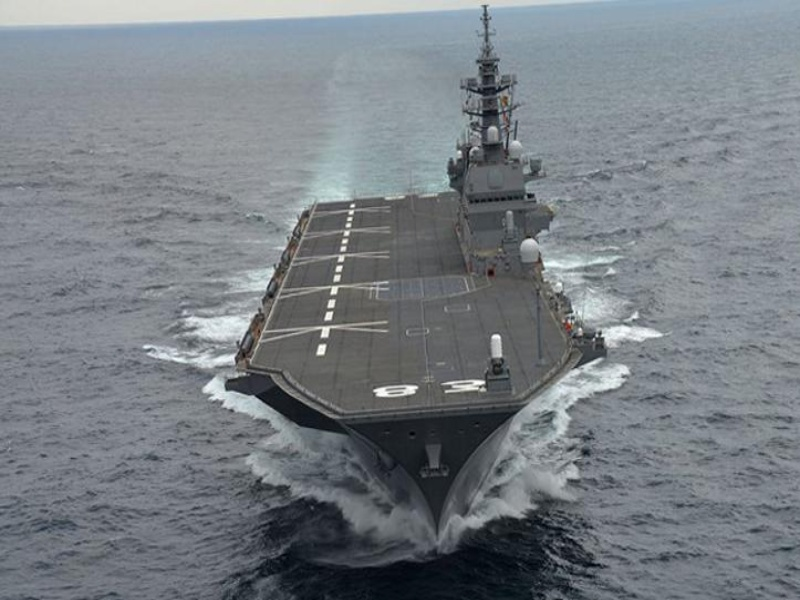carrier: (231, 15, 608, 559)
